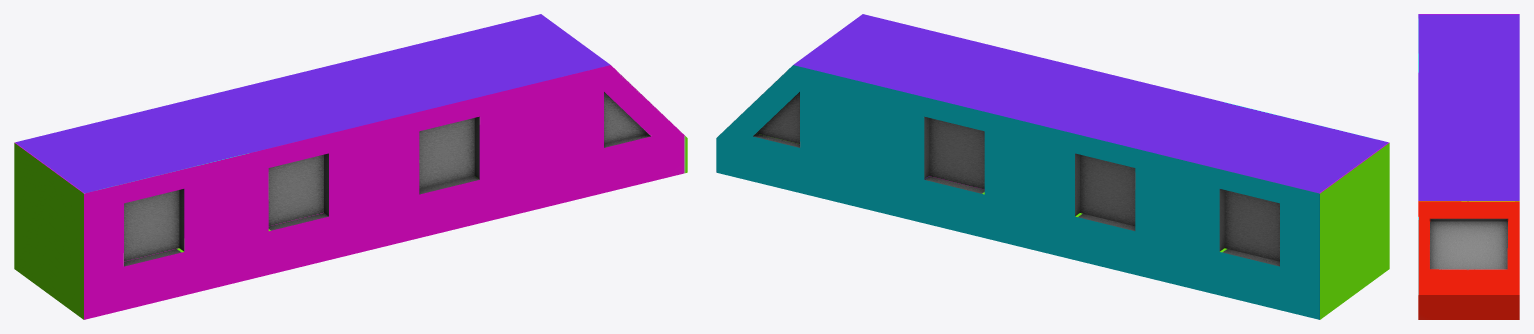
File: metro.obj
The picture shows the model from 3 angles, left to right: view 1: azimuth 30°, elevation 25°; view 2: azimuth 150°, elevation 25°; view 3: azimuth 270°, elevation 25°; orthographic projection. The views are drawn at different scales.
Parts seen in each view (by area): view 1: Cube; view 2: Cube; view 3: Cube.
Boxes of the visible parts, left/top/right/bottom form: Cube: left=14, top=14, right=687, bottom=319; Cube: left=716, top=14, right=1389, bottom=319; Cube: left=1418, top=14, right=1519, bottom=319.
Size of the model in its own units: 10 by 2 by 2.
Materials: 1 (1 with a texture image).
